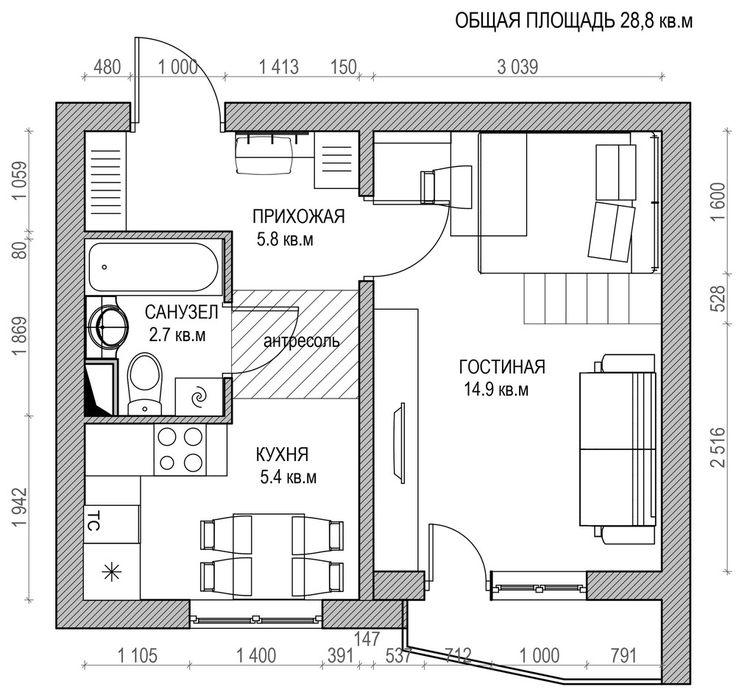balcony: (406, 601, 662, 678)
bathroom: (83, 240, 223, 417)
hallway: (84, 131, 359, 399)
kitchen: (84, 398, 359, 600)
living_room: (373, 131, 662, 572)
